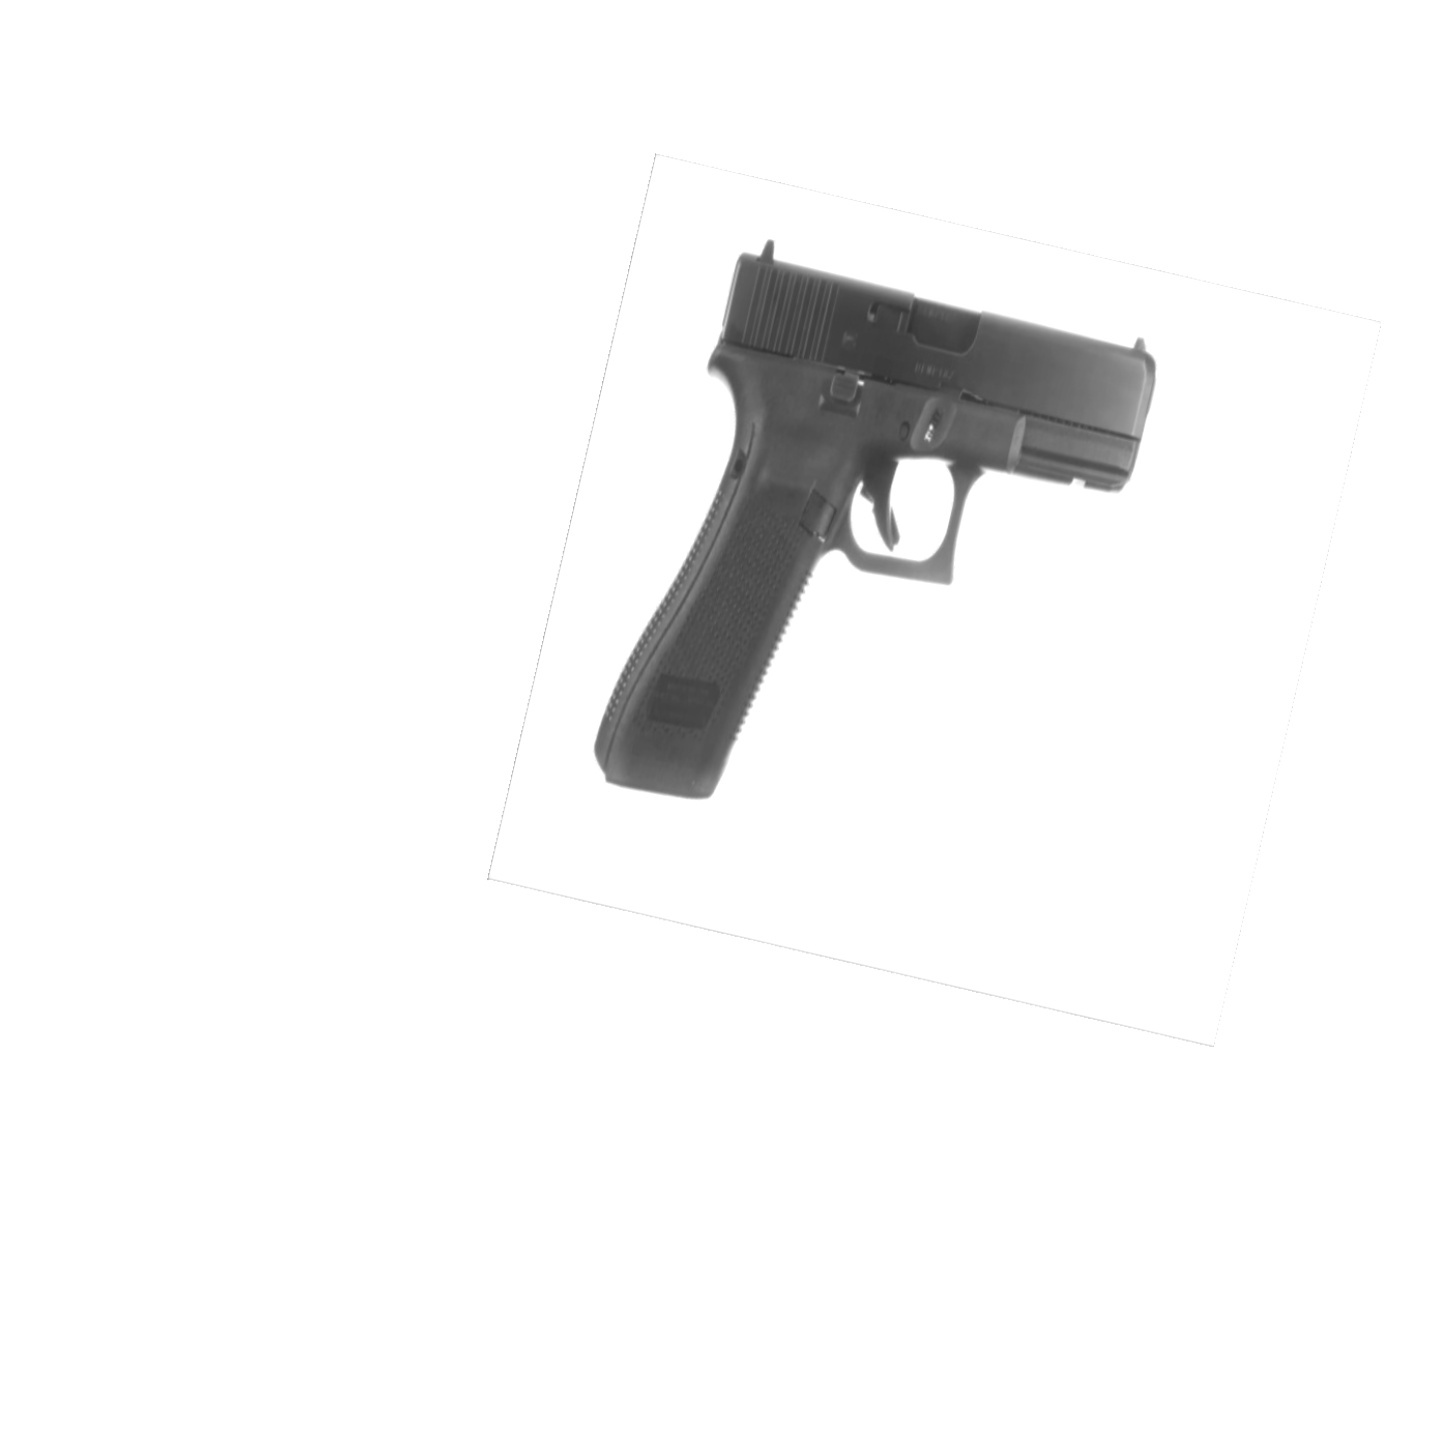gun: (591, 238, 1160, 805)
